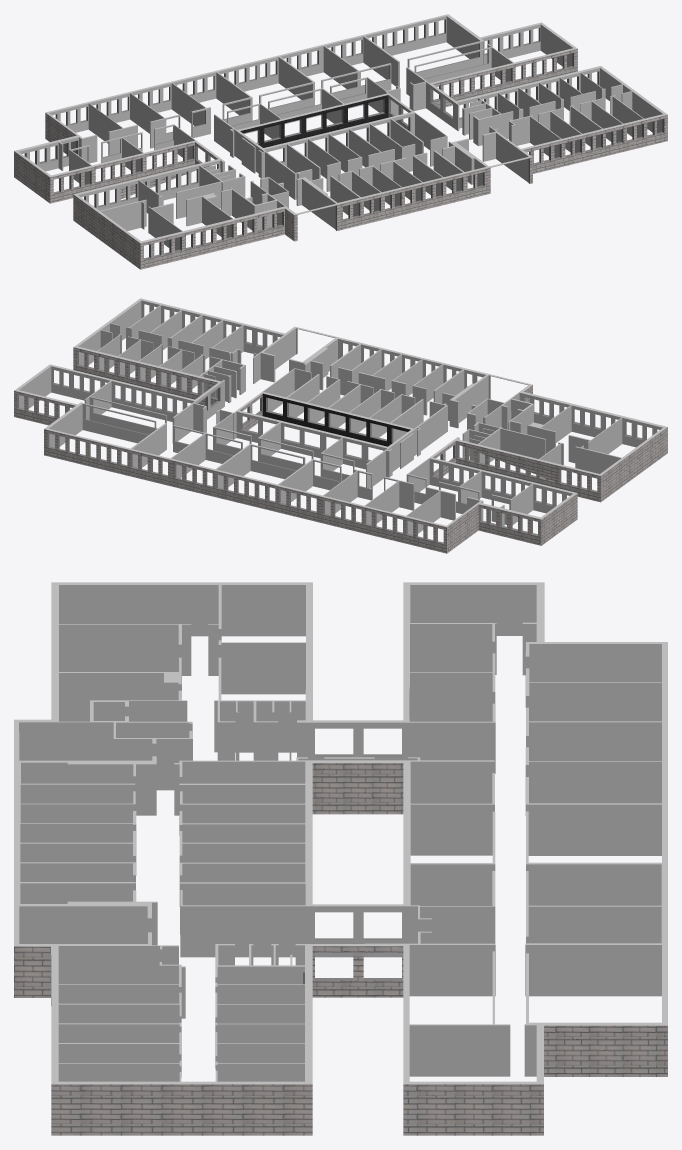
The model's file is wall.dae.
3 renders of one model, top to bottom at view 1: azimuth 30°, elevation 25°; view 2: azimuth 150°, elevation 25°; view 3: azimuth 270°, elevation 25°, orthographic. The views are drawn at different scales.
Parts seen in each view (by area): view 1: Wall; view 2: Wall; view 3: Wall.
Boxes of the visible parts, bbox=[...] form: Wall: bbox=[14, 14, 667, 269]; Wall: bbox=[14, 298, 667, 553]; Wall: bbox=[14, 582, 667, 1135].
Size of the model in its own units: 62.99 by 34.67 by 3.
